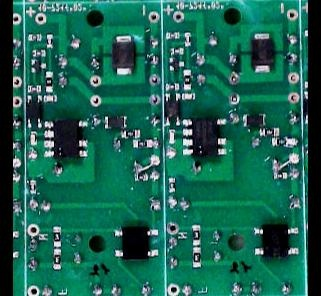chip-capacitor: (29, 130, 37, 145), (43, 94, 57, 102), (181, 91, 195, 99), (168, 128, 175, 143)
chip-resistor: (192, 246, 202, 268), (51, 225, 61, 246), (119, 128, 140, 138), (44, 69, 53, 92), (183, 68, 192, 89), (53, 247, 61, 270), (192, 223, 200, 246), (132, 138, 151, 147), (259, 127, 278, 136), (271, 136, 288, 145), (45, 32, 53, 48), (26, 84, 42, 92), (168, 176, 176, 192), (31, 48, 46, 56), (183, 30, 191, 45), (272, 170, 287, 178), (28, 33, 42, 41), (134, 172, 148, 180), (169, 46, 183, 54), (29, 179, 36, 193), (165, 31, 179, 38), (166, 83, 179, 90)
diode: (111, 34, 135, 74), (250, 32, 274, 72), (242, 112, 266, 126), (103, 115, 126, 128)
ic: (43, 117, 88, 159), (181, 116, 227, 156), (252, 222, 298, 259), (114, 226, 158, 260), (25, 94, 43, 128), (164, 91, 181, 126)
transistor: (30, 58, 46, 72), (168, 56, 184, 70)
